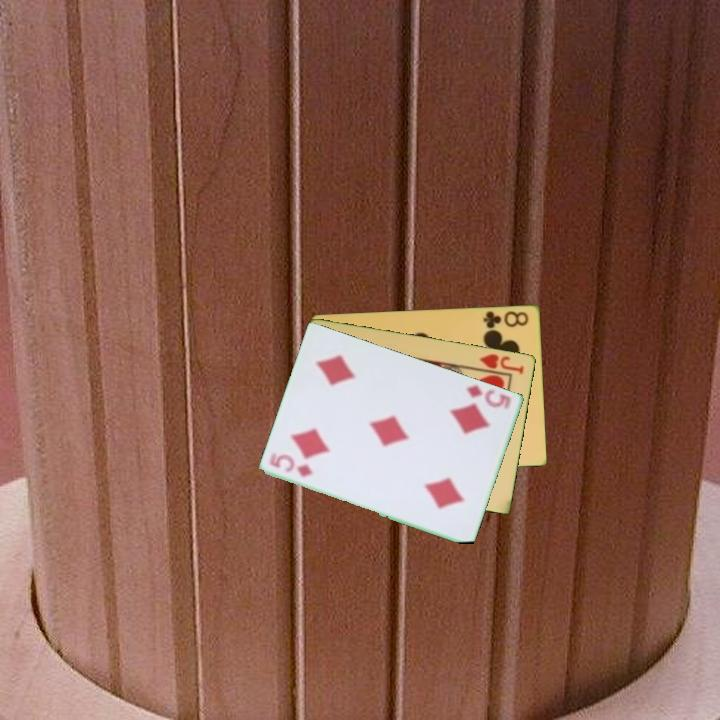5d: (463, 381, 515, 412), (266, 451, 316, 480)
8c: (480, 307, 531, 331)
Jh: (476, 350, 527, 377)
